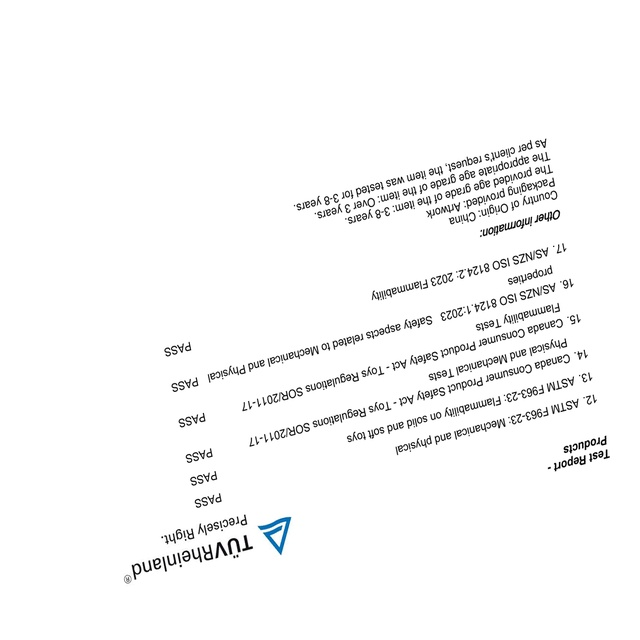tuv_rheinland: (119, 514, 294, 588)
